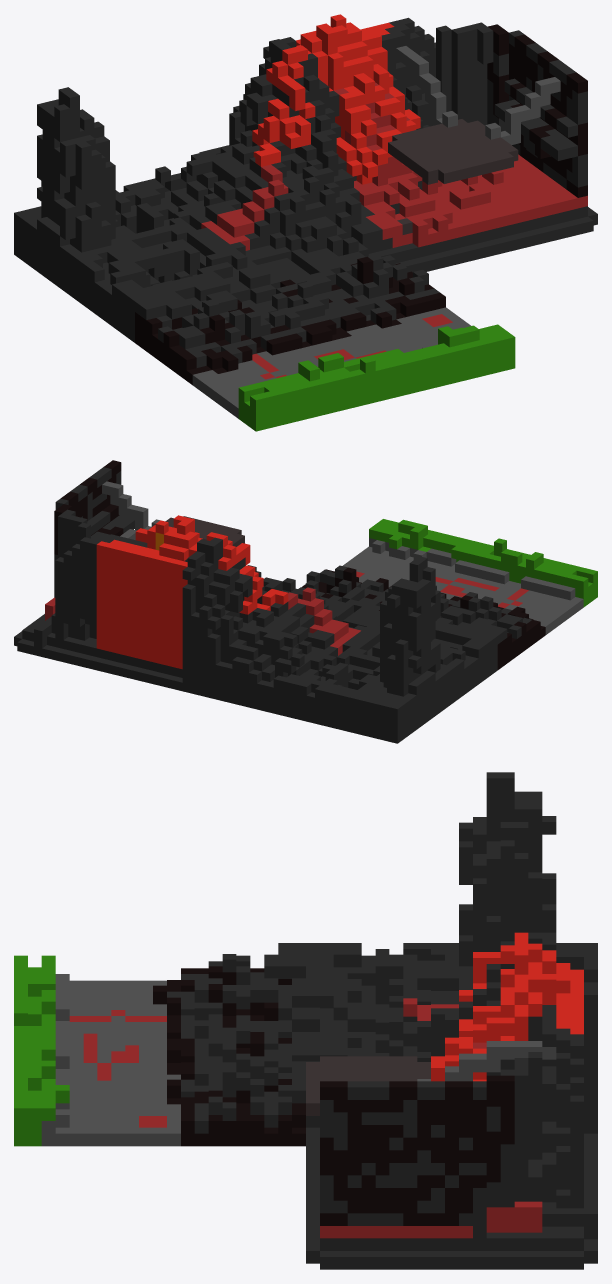
File: World fire part 4.gltf
The picture shows the model from 3 angles, top to bottom: view 1: azimuth 30°, elevation 25°; view 2: azimuth 150°, elevation 25°; view 3: azimuth 270°, elevation 25°; orthographic projection. The views are drawn at different scales.
Parts seen in each view (by area): view 1: Layer.2, Layer.1, Layer.3; view 2: Layer.2, Layer.1, Layer.3; view 3: Layer.1, Layer.3, Layer.2.
Part boxes in pixels (left/top/right/bottom): Layer.2: left=14, top=37, right=388, bottom=342; Layer.1: left=296, top=14, right=597, bottom=272; Layer.3: left=135, top=254, right=515, bottom=431; Layer.2: left=182, top=532, right=497, bottom=743; Layer.1: left=14, top=460, right=244, bottom=691; Layer.3: left=298, top=519, right=597, bottom=669; Layer.1: left=306, top=943, right=597, bottom=1269; Layer.3: left=14, top=943, right=305, bottom=1146; Layer.2: left=306, top=772, right=597, bottom=1133.
Size of the model in its own units: 47 by 18 by 42.
Materials: 1 (1 with a texture image).
